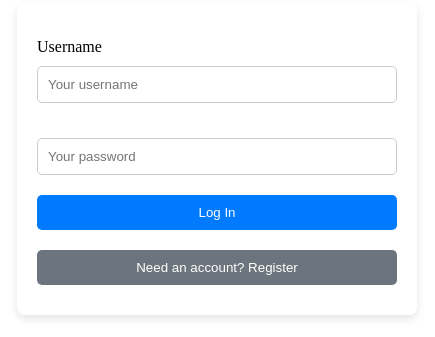
Scenario: Home page behaviour › Logged out behaviour › renders a register form on selecting register
Click the button with class "toggle-button" at x=217, y=268, box [37, 250, 397, 285]
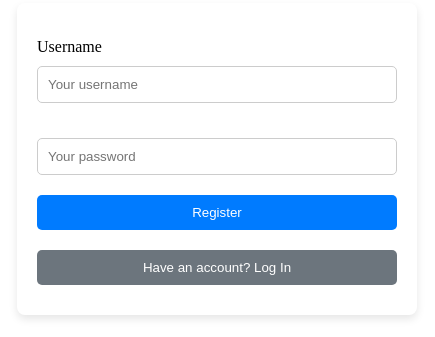
Expected: the submit button reads "Register", [37, 195, 397, 230]
